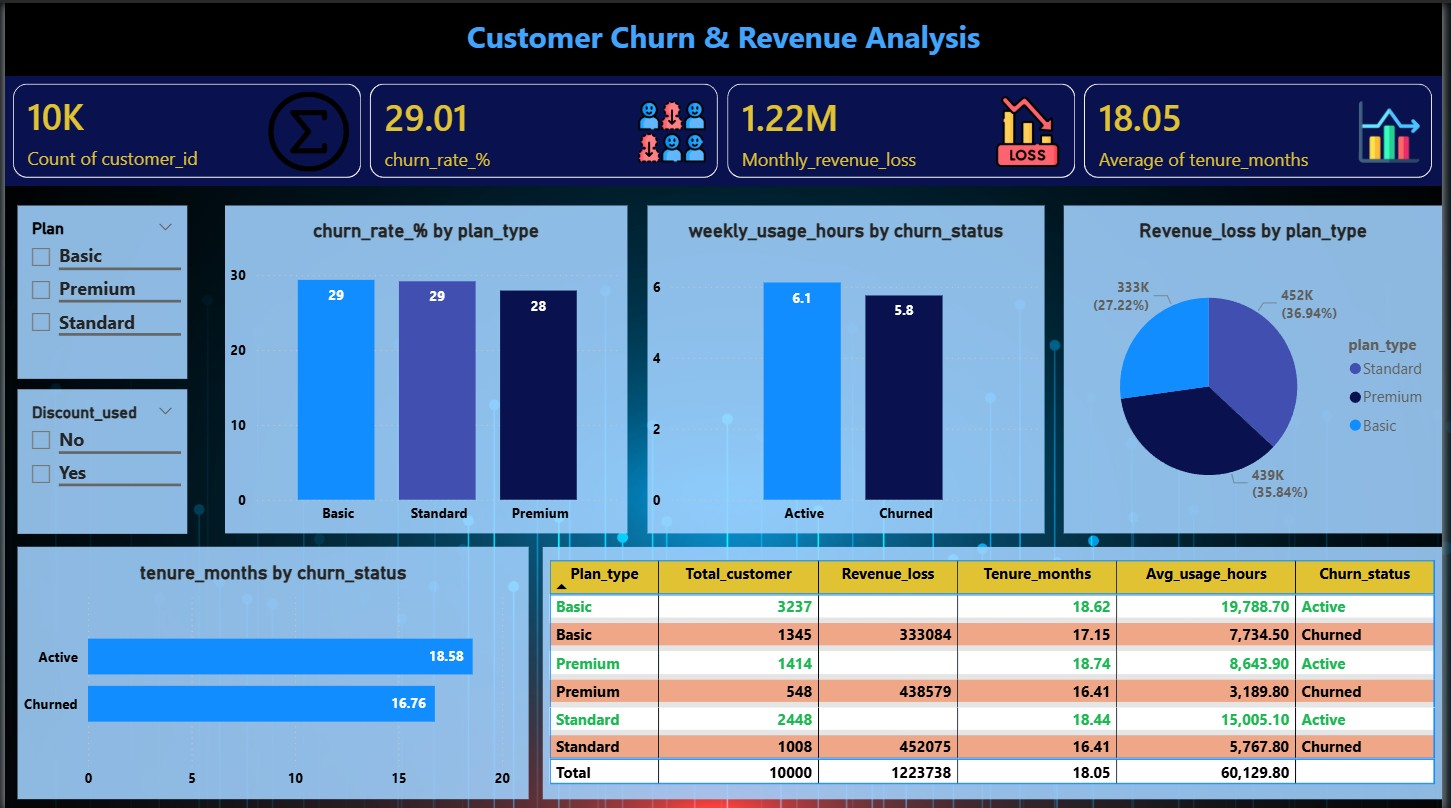

What the dashboard file says about the page in this screenshot:
{"tool":"powerbi","page":{"name":"Page 1","canvas":[1280,720],"ordinal":0},"visuals":[{"type":"columnChart","fields":{"Y":["customer_churn_data.churn_rate_%"],"Category":["customer_churn_data.plan_type"]},"box":[196.3,180.4,358.3,292],"z":0},{"type":"clusteredBarChart","fields":{"Y":["Avg(customer_churn_data.tenure_months)"],"Category":["customer_churn_data.churn_status"]},"box":[11,484.7,455.2,224.5],"z":1000},{"type":"clusteredColumnChart","fields":{"Y":["Avg(customer_churn_data.avg_weekly_usage_hours)"],"Category":["customer_churn_data.churn_status"]},"box":[571.8,180.4,353.4,292],"z":2000},{"type":"pieChart","fields":{"Category":["customer_churn_data.plan_type"],"Y":["customer_churn_data.Monthly_revenue_loss"]},"box":[942.3,180.4,337.4,292],"z":3000},{"type":"cardVisual","fields":{"Data":["CountNonNull(customer_churn_data.customer_id)","customer_churn_data.churn_rate_%","customer_churn_data.Monthly_revenue_loss","Avg(customer_churn_data.tenure_months)"]},"box":[0,65,1279.8,98.2],"z":4000},{"type":"tableEx","fields":{"Values":["customer_churn_data.plan_type","CountNonNull(customer_churn_data.customer_id)","customer_churn_data.Monthly_revenue_loss","Avg(customer_churn_data.tenure_months)","Sum(customer_churn_data.avg_weekly_usage_hours)","customer_churn_data.churn_status"]},"box":[478.5,484.7,801.2,224.5],"z":5000},{"type":"slicer","fields":{"Values":["customer_churn_data.plan_type"]},"box":[11,180.4,150.9,154.6],"z":5001},{"type":"slicer","fields":{"Values":["customer_churn_data.discount_used"]},"box":[11,343.6,150.9,128.8],"z":5002},{"type":"textbox","box":[0,0,1279.8,65],"z":5003}]}

Visuals, with their boxes in screenshot pixels (x1, y1, x2, y2), scaled from the page's 1280x720 canvas onto the 1451x808 screenshot:
columnChart - customer_churn_data.churn_rate_% x customer_churn_data.plan_type: 223 202 629 530
clusteredBarChart - Avg(customer_churn_data.tenure_months) x customer_churn_data.churn_status: 12 544 528 796
clusteredColumnChart - Avg(customer_churn_data.avg_weekly_usage_hours) x customer_churn_data.churn_status: 648 202 1049 530
pieChart - customer_churn_data.plan_type x customer_churn_data.Monthly_revenue_loss: 1068 202 1450 530
cardVisual - CountNonNull(customer_churn_data.customer_id) x customer_churn_data.churn_rate_%: 0 73 1450 183
tableEx - customer_churn_data.plan_type x CountNonNull(customer_churn_data.customer_id): 542 544 1450 796
slicer - customer_churn_data.plan_type: 12 202 184 376
slicer - customer_churn_data.discount_used: 12 386 184 530
textbox: 0 0 1450 73
